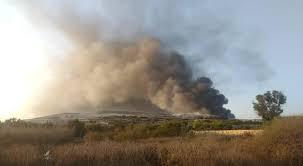smoke: (33, 22, 238, 119)
